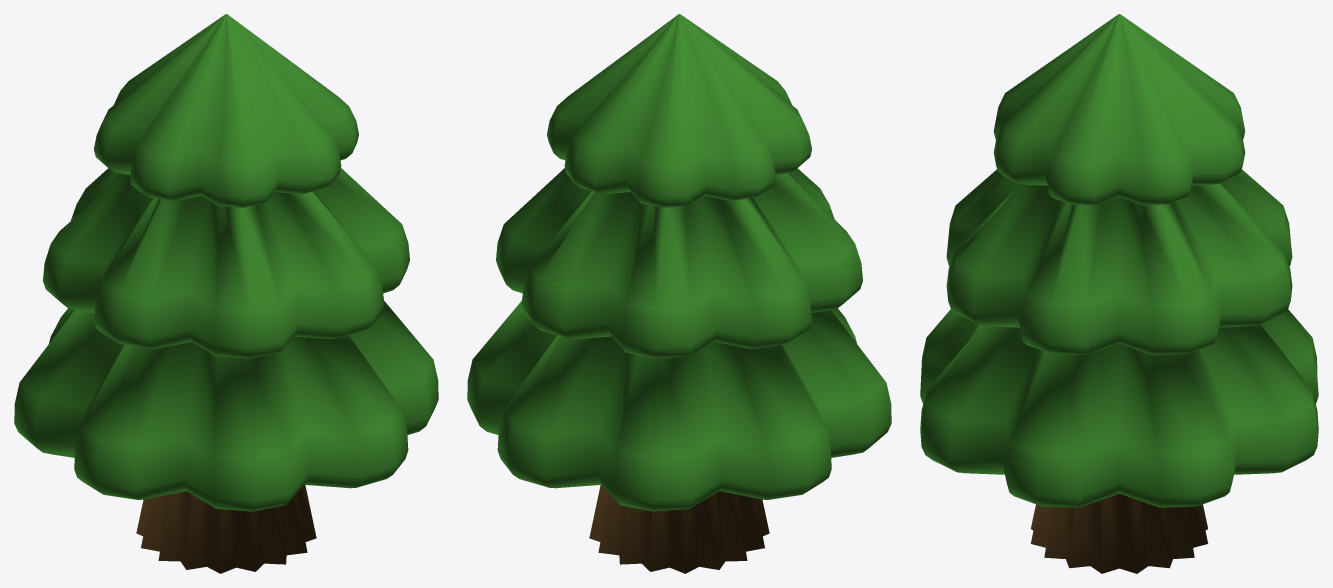
Rendered from Tree_Smooth.fbx.
3 views of the same model, side by side, from view 1: azimuth 30°, elevation 25°; view 2: azimuth 150°, elevation 25°; view 3: azimuth 270°, elevation 25° (orthographic).
Parts seen in each view (by area): view 1: 원형; view 2: 원형; view 3: 원형.
Part boxes in pixels (box(x1,y1,x2,y2)): 원형: box(14, 14, 438, 573); 원형: box(467, 14, 891, 573); 원형: box(920, 14, 1318, 573).
Size of the model in its own units: 109 by 109 by 157.
